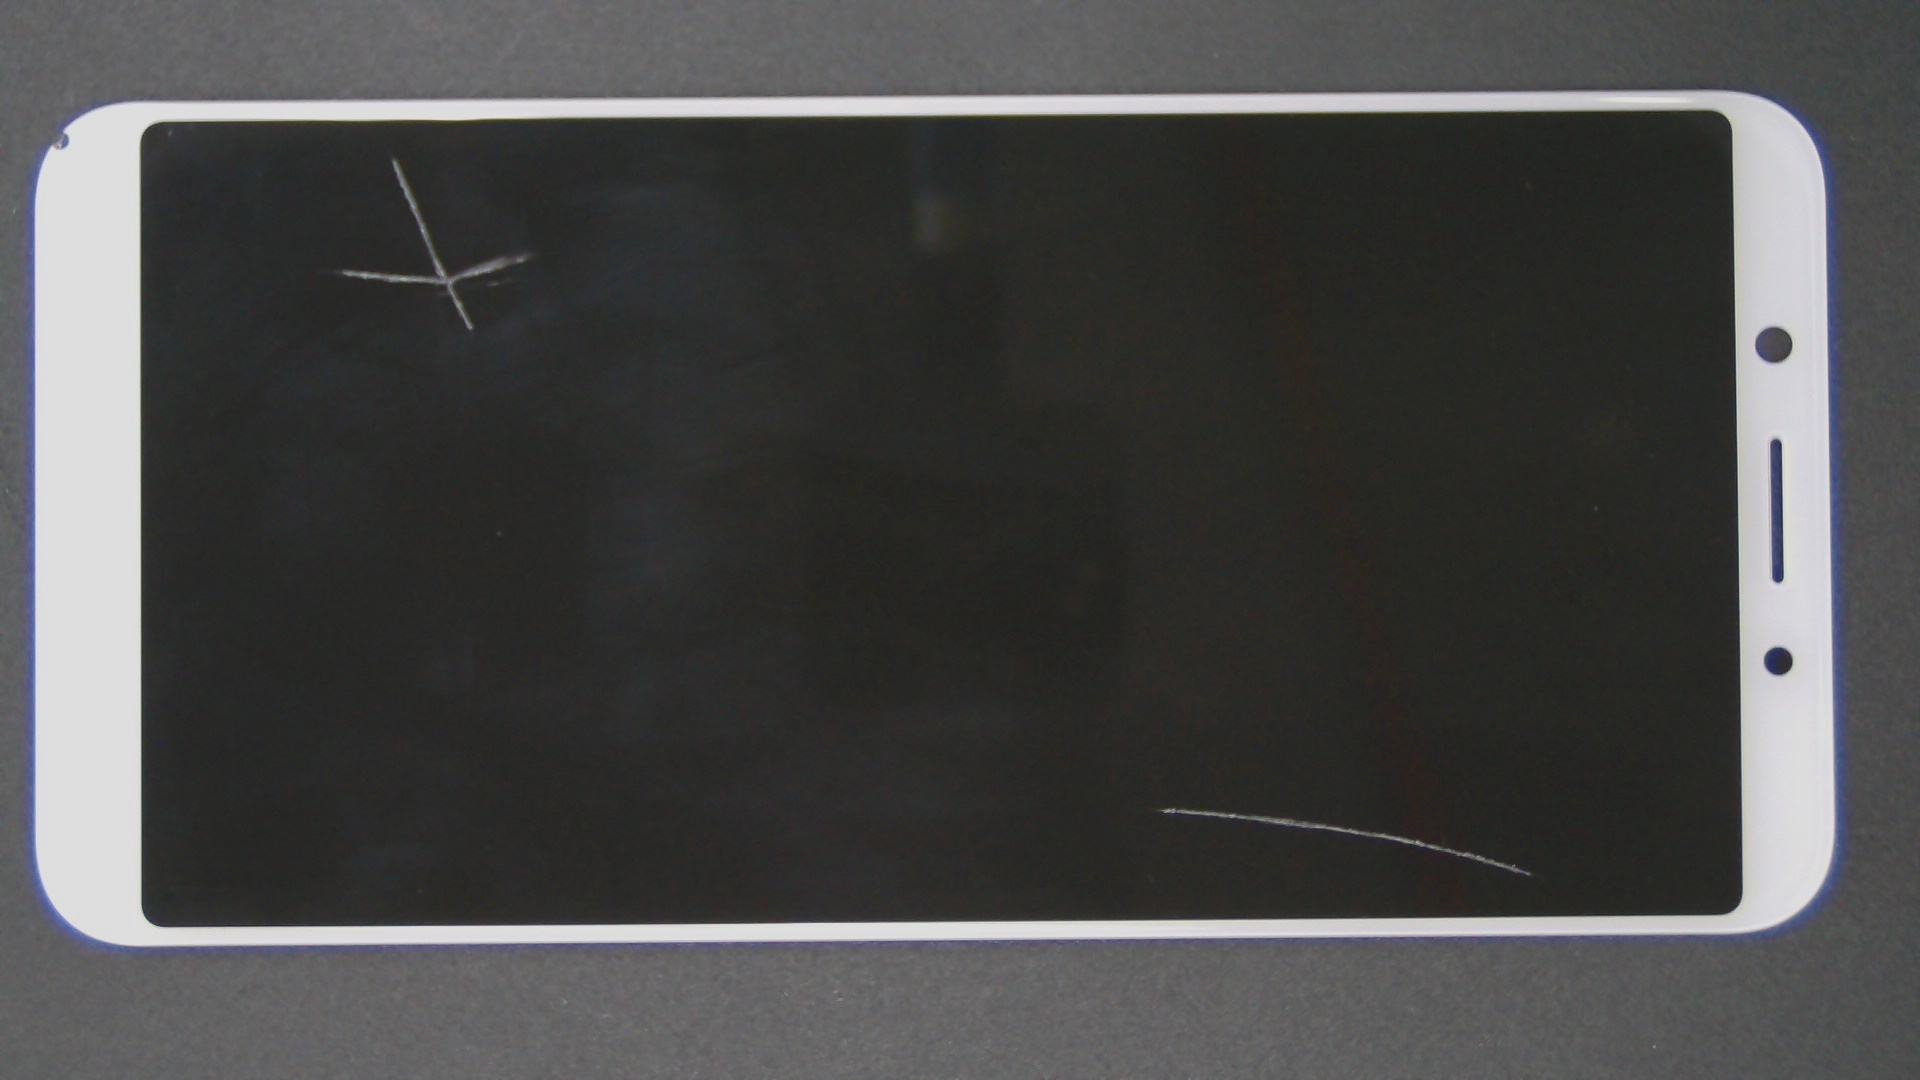oil: (585, 404, 1754, 1080), (198, 78, 592, 236)
